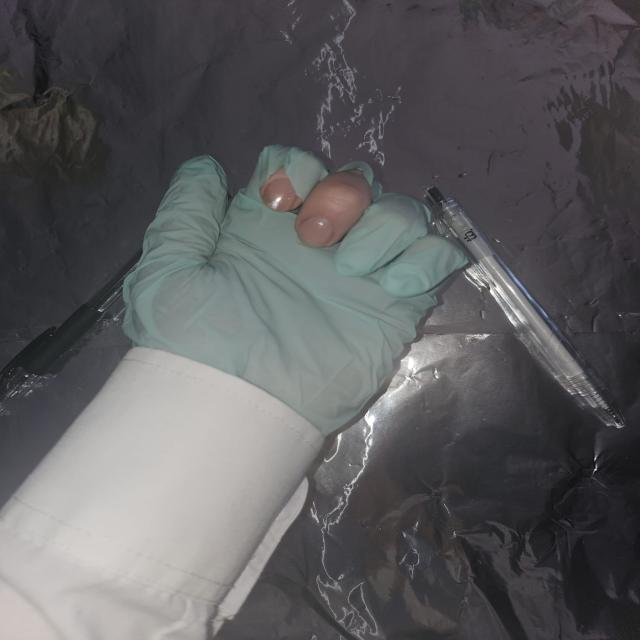gloves_damaged: (124, 142, 473, 436)
